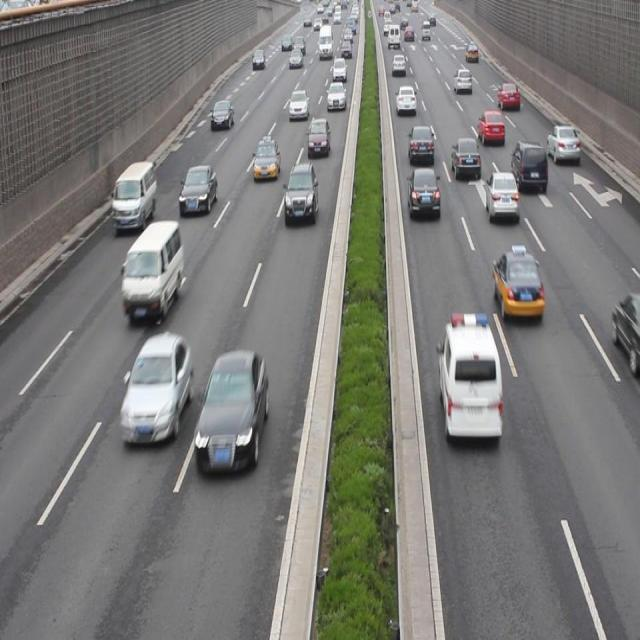car: (194, 349, 268, 471), (120, 334, 192, 442), (492, 244, 542, 324), (283, 164, 317, 226), (178, 164, 217, 215), (509, 140, 546, 193), (406, 166, 440, 218), (484, 172, 517, 224), (449, 136, 480, 180), (253, 135, 280, 183), (545, 125, 578, 164), (306, 116, 330, 159), (476, 109, 504, 145), (408, 125, 433, 165), (210, 98, 234, 131)
truck: (437, 310, 500, 444), (122, 220, 184, 320), (113, 162, 157, 230)
